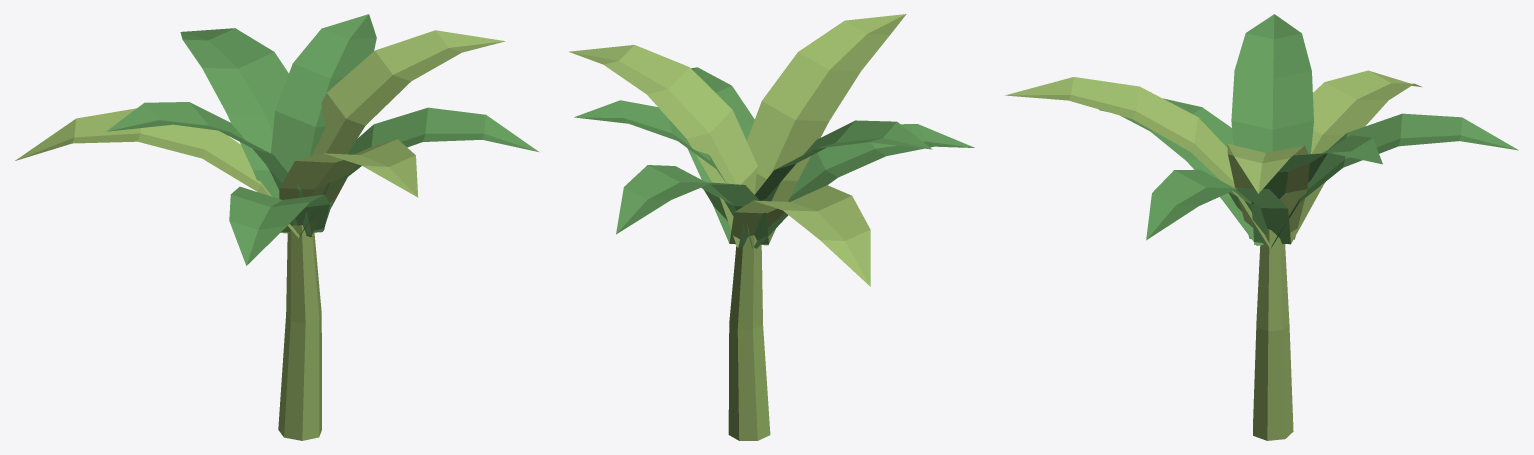
Rendered from banana.glb.
3 renders of one model, left to right at view 1: azimuth 30°, elevation 25°; view 2: azimuth 150°, elevation 25°; view 3: azimuth 270°, elevation 25°, orthographic. The views are drawn at different scales.
Visible parts, largest first — view 1: SG_Banana; view 2: SG_Banana; view 3: SG_Banana.
Part boxes in pixels (x1=…): SG_Banana: x1=15, y1=14, x2=539, y2=440; SG_Banana: x1=569, y1=14, x2=974, y2=440; SG_Banana: x1=1005, y1=14, x2=1518, y2=440.
Bounding box in the file's own units: 3.32 × 2.82 × 3.85.
